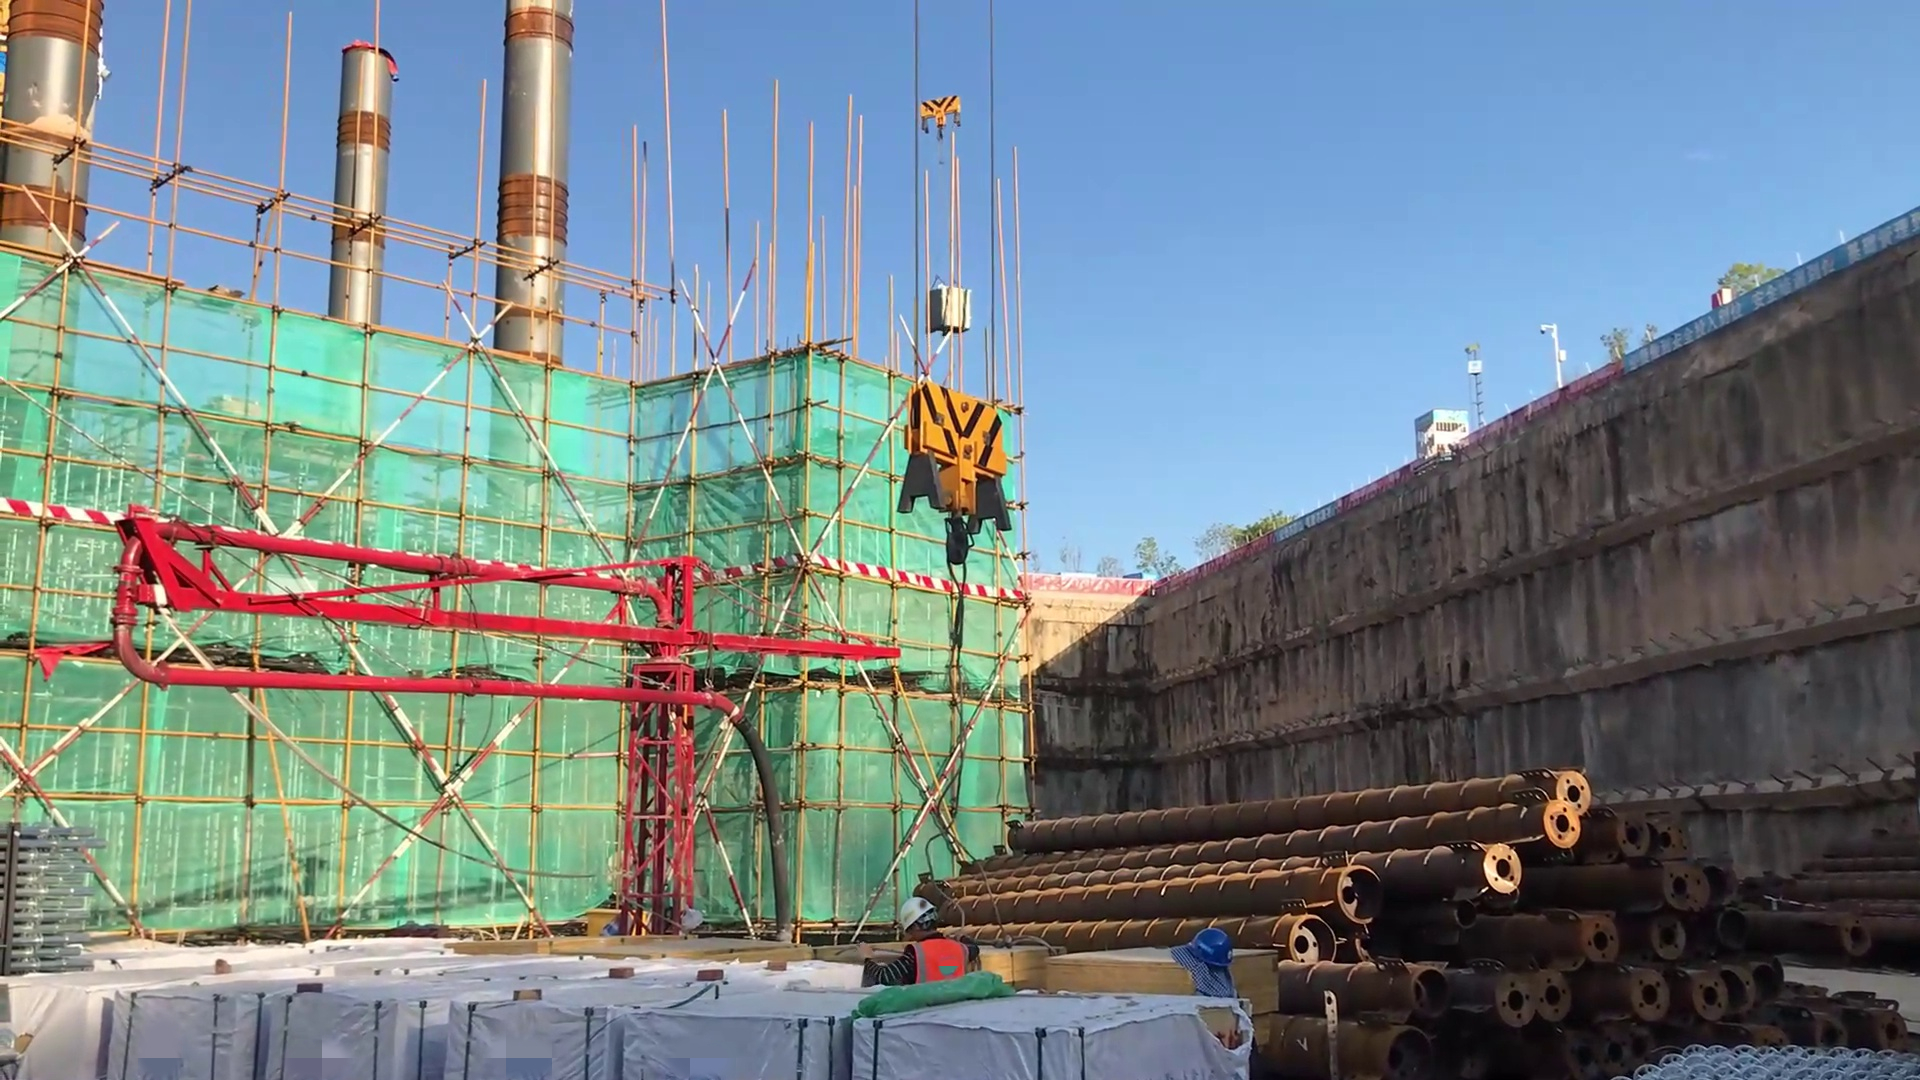board: (1041, 955, 1297, 1008), (962, 946, 1068, 988)
ebox: (587, 902, 645, 952)
helmet: (1180, 916, 1243, 986), (890, 894, 950, 948)
hook: (904, 359, 1043, 601), (901, 67, 987, 148)
person: (852, 894, 981, 1001)
scaffold: (1, 824, 108, 978)
slogan: (1625, 197, 1920, 373), (1268, 498, 1350, 549)
vest: (904, 935, 973, 992)
